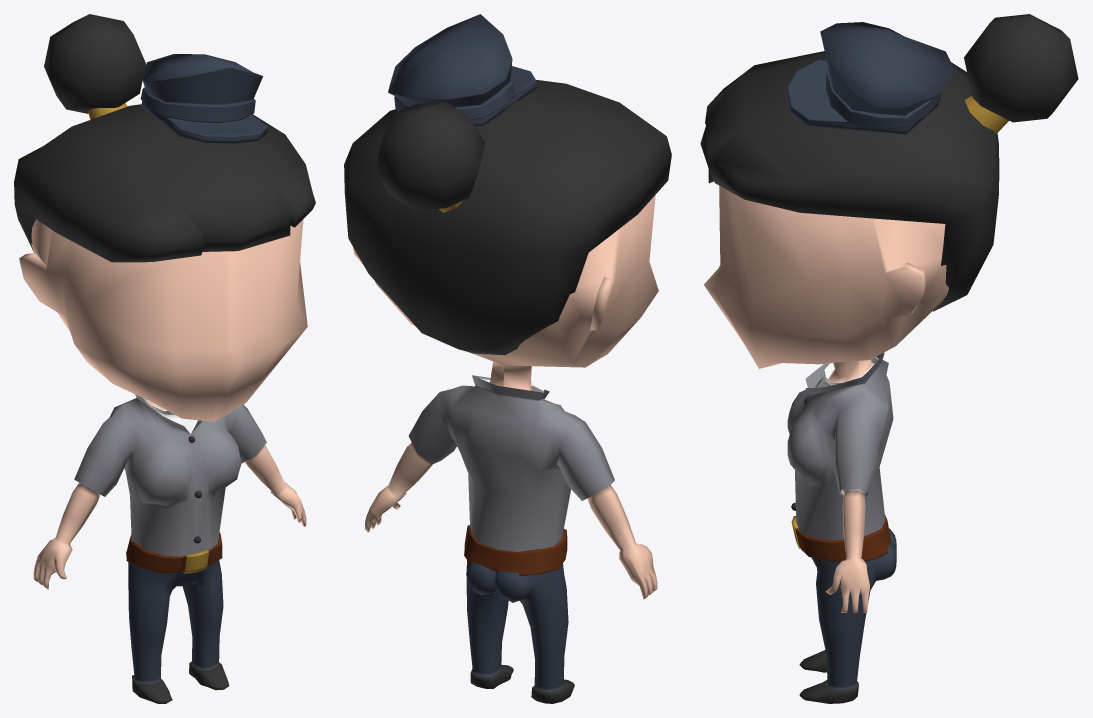
File: Officer_Wen_Blockout v3.fbx
3 views of the same model, side by side, from view 1: azimuth 30°, elevation 25°; view 2: azimuth 150°, elevation 25°; view 3: azimuth 270°, elevation 25° (orthographic). The views are drawn at different scales.
Parts seen in each view (by area): view 1: Wen base.006; view 2: Wen base.006; view 3: Wen base.006.
Boxes of the visible parts, x1=… form: Wen base.006: x1=14, y1=14, x2=315, y2=703; Wen base.006: x1=344, y1=14, x2=671, y2=703; Wen base.006: x1=700, y1=14, x2=1078, y2=703.
Size of the model in its own units: 231 by 516 by 262.
